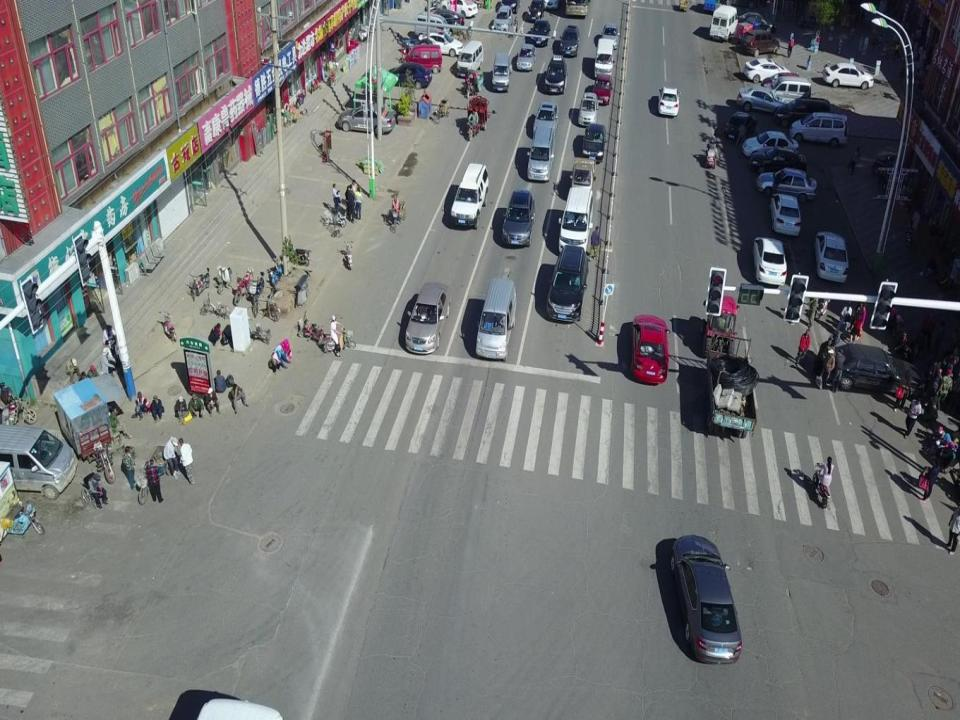bus: (565, 0, 591, 18)
car: (670, 534, 742, 664), (824, 343, 923, 400), (404, 280, 452, 356), (546, 245, 590, 323), (631, 314, 670, 383), (450, 161, 489, 229), (756, 167, 817, 204), (337, 101, 396, 138), (501, 188, 535, 248), (812, 231, 850, 283), (736, 84, 788, 118), (753, 235, 787, 287), (741, 131, 799, 159), (750, 147, 807, 175), (767, 193, 801, 237), (822, 62, 874, 90), (743, 57, 791, 85), (417, 30, 464, 57), (724, 110, 758, 142), (740, 30, 780, 57), (582, 123, 607, 164), (735, 11, 777, 35), (544, 56, 569, 94), (532, 102, 559, 136), (760, 72, 801, 92), (426, 8, 465, 28), (591, 74, 614, 106), (658, 86, 681, 118), (578, 91, 599, 126), (439, 1, 479, 19), (514, 42, 536, 72), (559, 25, 580, 56), (530, 18, 551, 47), (601, 22, 620, 50), (494, 5, 512, 32), (527, 0, 544, 20), (542, 0, 558, 10)
truck: (700, 296, 758, 440), (570, 155, 596, 194)
van: (0, 422, 78, 500), (475, 278, 517, 362), (558, 187, 594, 254), (788, 110, 848, 148), (774, 97, 831, 131), (526, 125, 554, 183), (762, 74, 811, 106), (404, 43, 442, 76), (708, 3, 738, 42), (456, 40, 484, 76), (594, 38, 616, 79), (414, 15, 451, 39), (491, 51, 512, 92)
